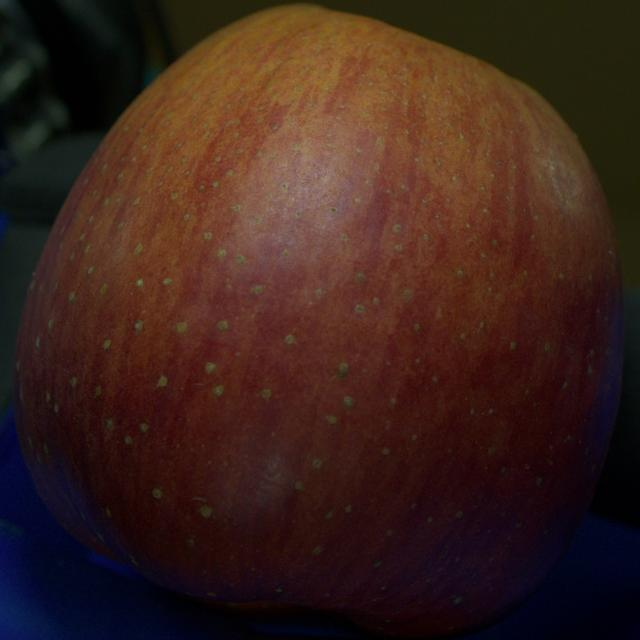apple: (13, 6, 624, 637)
